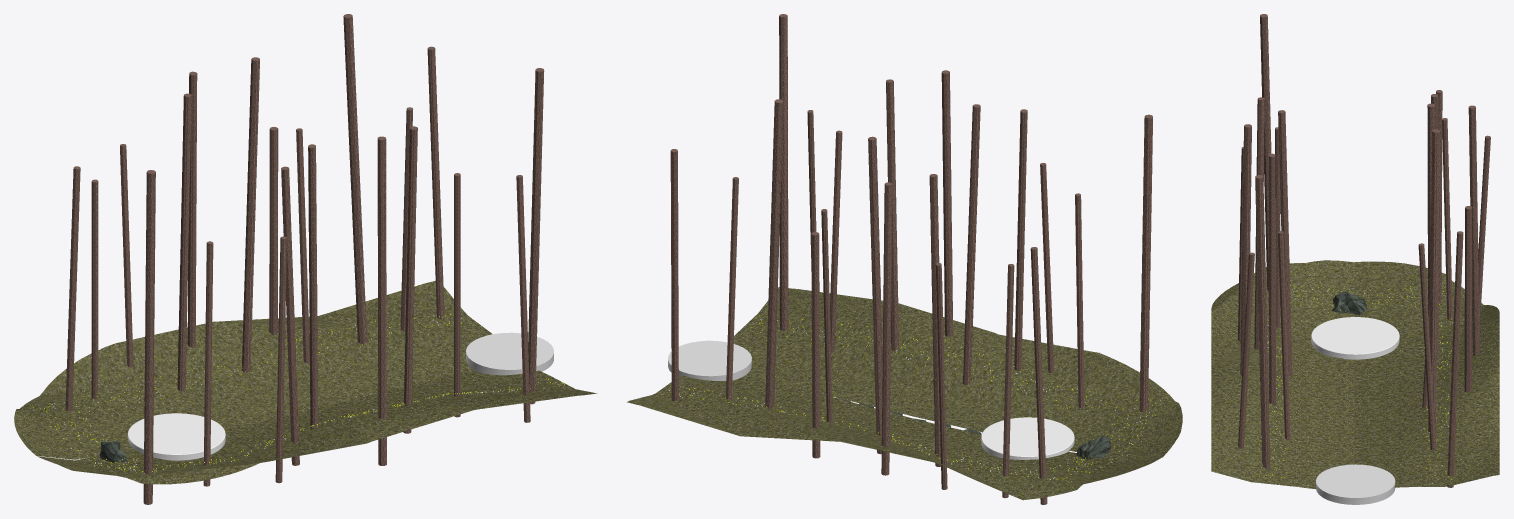
File: forest16.glb
3 views of the same model, side by side, from view 1: azimuth 30°, elevation 25°; view 2: azimuth 150°, elevation 25°; view 3: azimuth 270°, elevation 25° (orthographic). The views are drawn at different scales.
Parts seen in each view (by area): view 1: Landscape.1, Trees, Cylinder, End; view 2: Landscape.1, Trees, Cylinder, End; view 3: Landscape.1, Trees, Cylinder, End, Sphere.8, Cloner.1-PBR.
Part boxes in pixels (left/top/right/bottom): Landscape.1: left=14, top=281, right=597, bottom=484; Trees: left=65, top=14, right=544, bottom=504; Cylinder: left=127, top=413, right=225, bottom=460; End: left=466, top=332, right=553, bottom=375; Landscape.1: left=627, top=287, right=1182, bottom=500; Trees: left=670, top=14, right=1152, bottom=504; Cylinder: left=981, top=417, right=1074, bottom=459; End: left=668, top=340, right=751, bottom=380; Landscape.1: left=1211, top=260, right=1499, bottom=489; Trees: left=1238, top=14, right=1490, bottom=487; Cylinder: left=1311, top=317, right=1399, bottom=359; End: left=1316, top=464, right=1395, bottom=504; Sphere.8: left=1332, top=291, right=1367, bottom=315; Cloner.1-PBR: left=1258, top=283, right=1451, bottom=479.
Size of the model in its own units: 121 by 79.8 by 65.31.
Materials: 7 (3 with a texture image).
